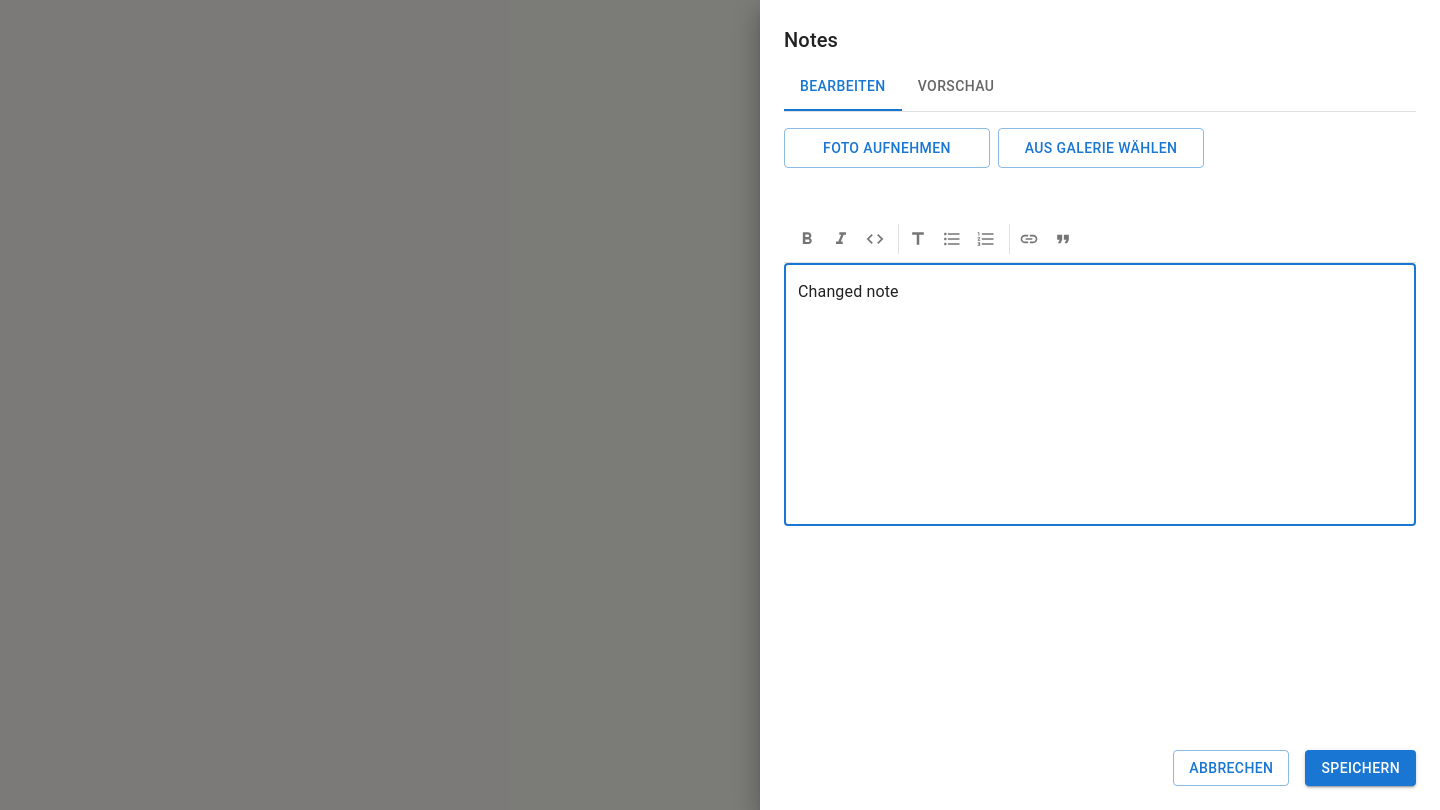
NotesDrawer attachments › uses the unsaved confirmation when Cancel is clicked with dirty notes
This screenshot has width=1440, height=810.
Click the button "Abbrechen".
click(1231, 768)  # box [1173, 750, 1289, 786]
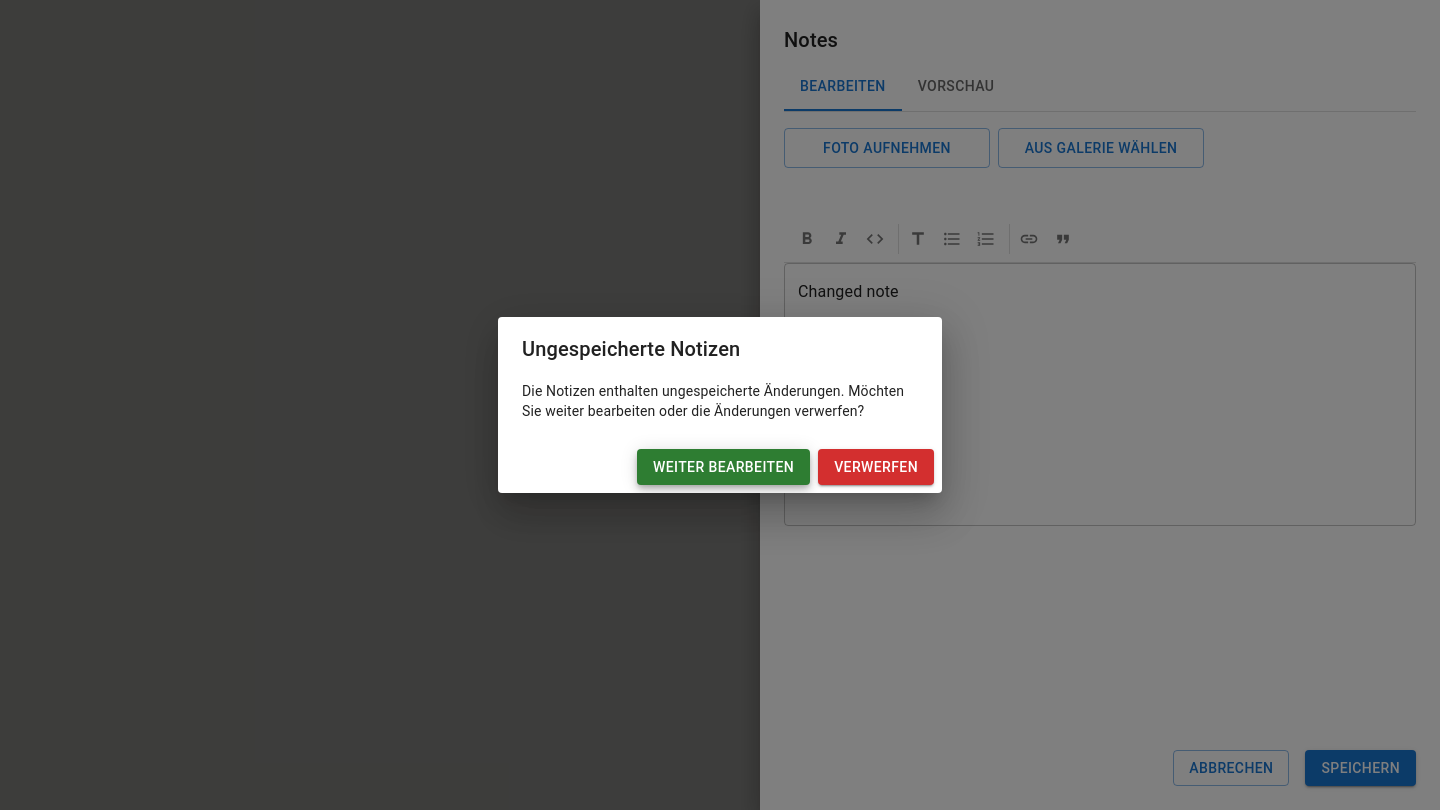
Result: the heading "Ungespeicherte Notizen" is shown at [522, 337, 740, 361]
